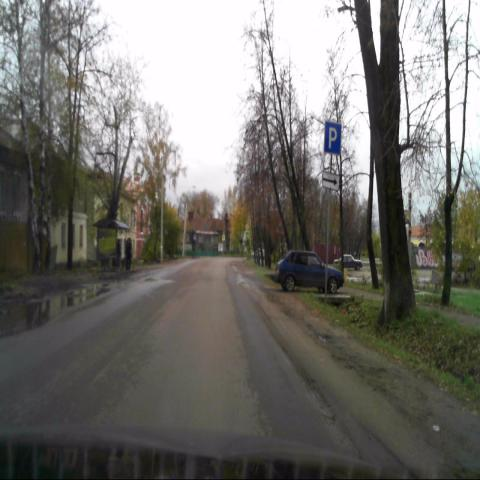6_4: (324, 122, 341, 154)
8_3_1: (322, 173, 339, 190)
